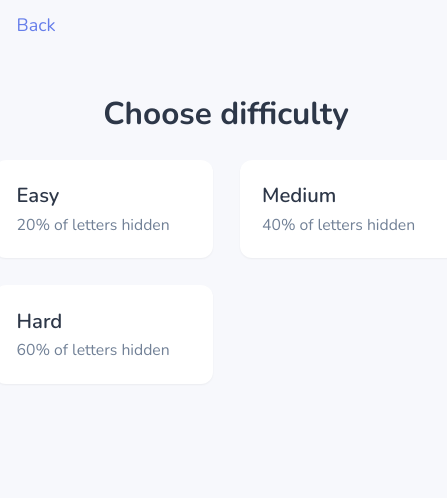
Test: FillInBlanks › shows progress and next button during play
Click the text "Easy".
click(38, 196)  # box [16, 182, 59, 209]
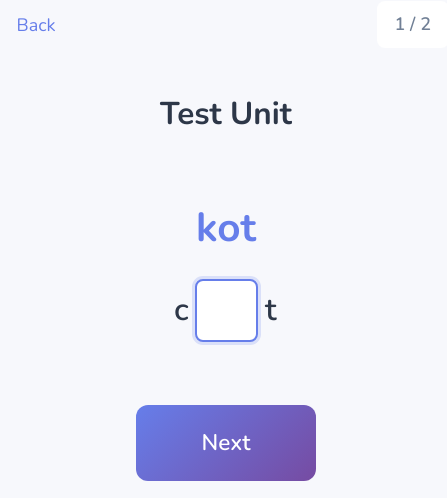
Expected: the button "Next" is shown, [136, 405, 316, 481]
